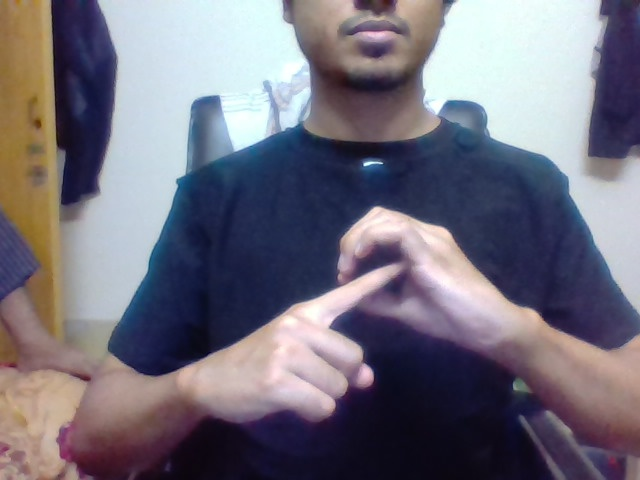Q: (346, 227, 425, 318)
